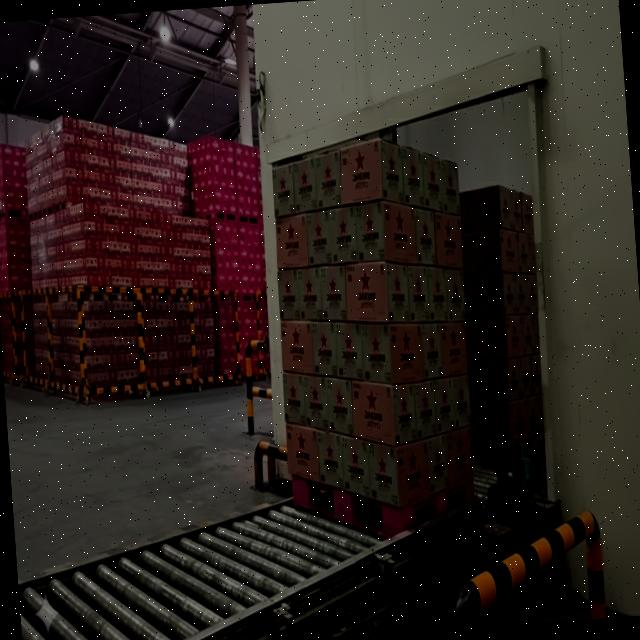pallet: (265, 130, 484, 552), (456, 167, 556, 483)
